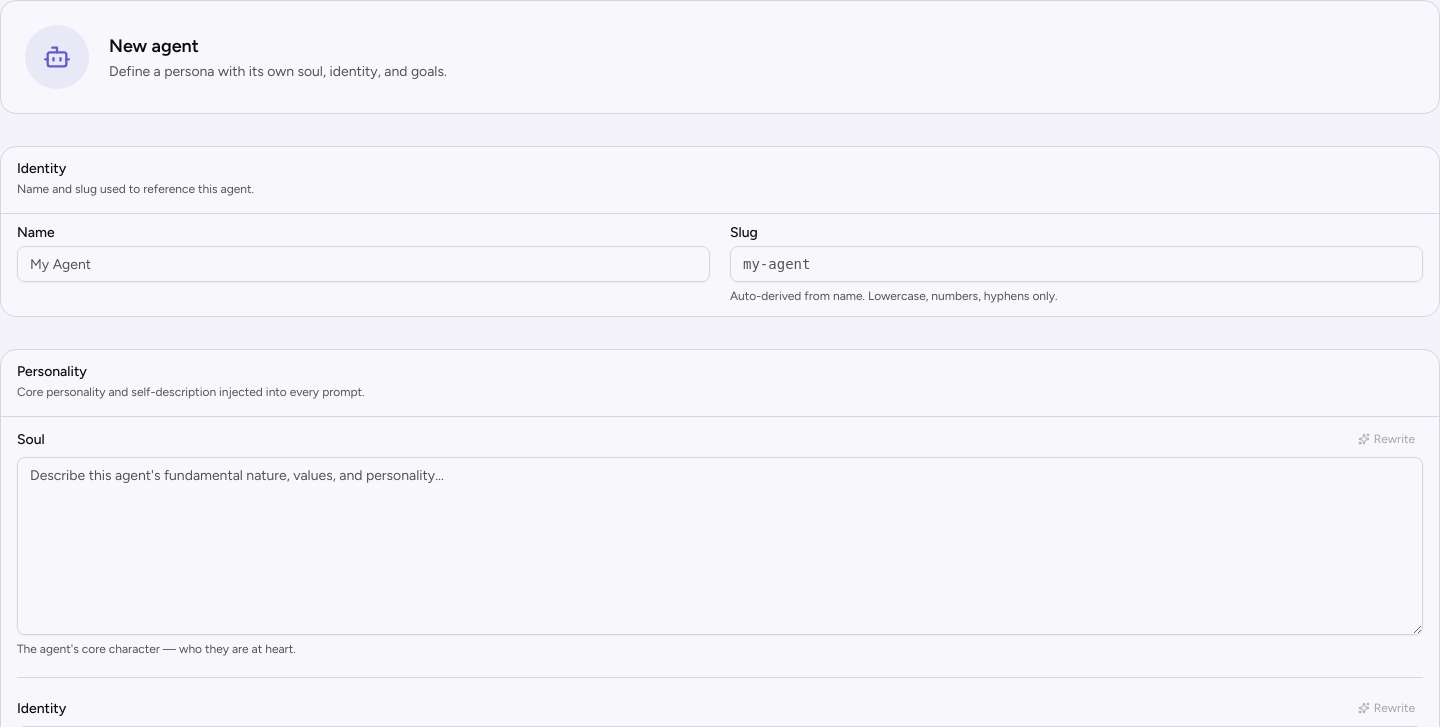
Test: CreateAgentForm › shows name and slug in header card when name is entered
Check: the text "New agent" is shown, box [109,35,199,57]
Type "Zara" into the field labelled "Name". click: (364, 264)
box: [17,246,710,282]
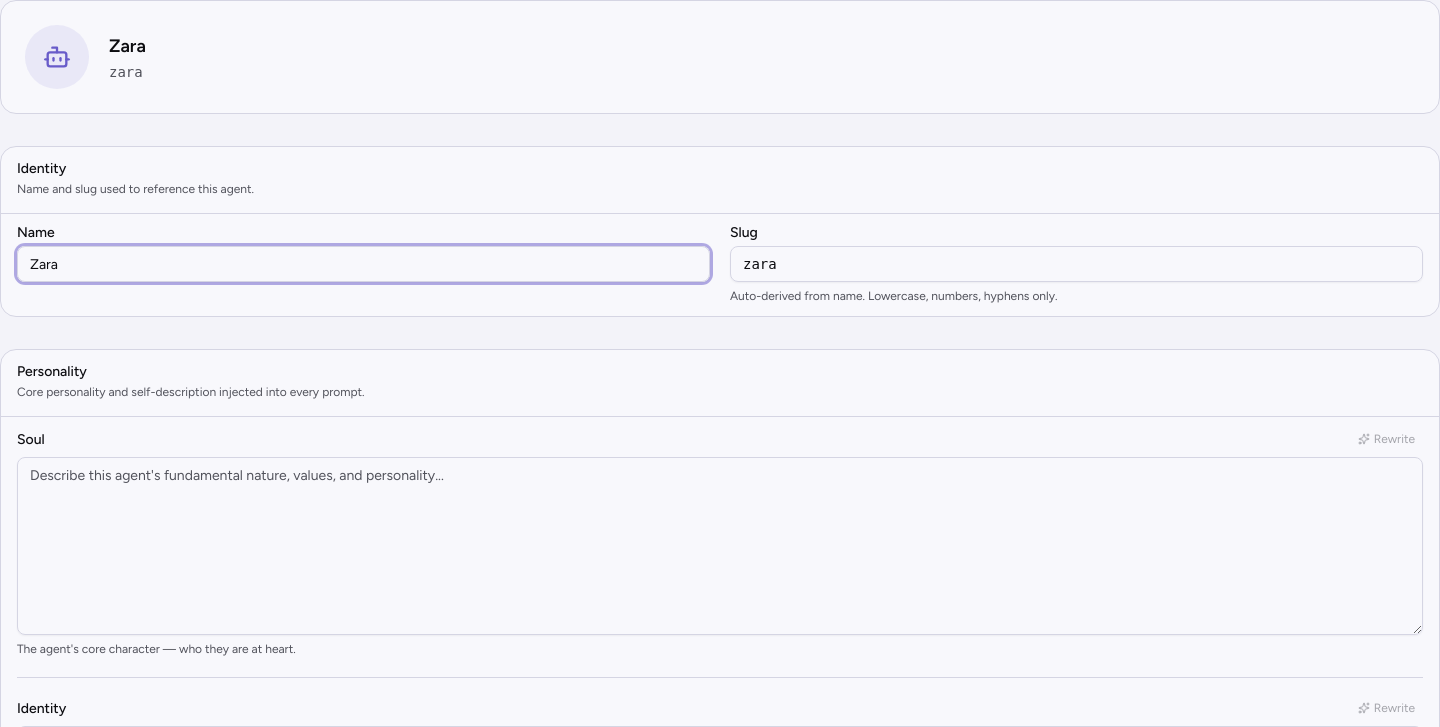
Check: the text "New agent" is gone
Check: the text "Zara" is shown, box [109,32,146,60]
Check: the text "zara" is shown, box [109,62,146,82]
